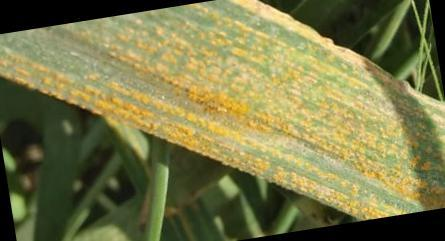Wheat: (34, 38, 398, 210)
